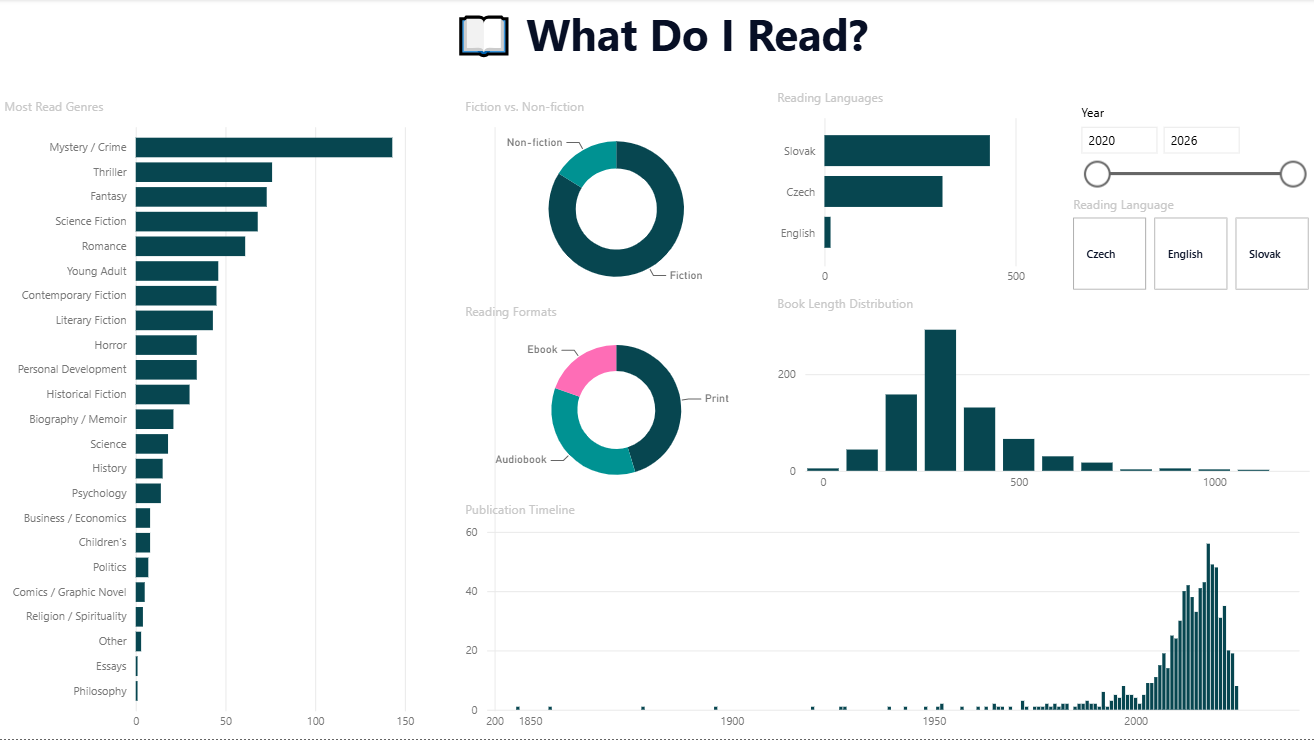

This screenshot's page, from the dashboard's own definition file:
{"tool":"powerbi","page":{"name":"What Do I Read?","canvas":[1280,720],"ordinal":1},"visuals":[{"type":"textbox","box":[8,0,1272,96],"z":0},{"type":"clusteredBarChart","title":"Most Read Genres","fields":{"Category":["FactBooks.Genre"],"Y":["FactBooks.Books Read"]},"box":[0,96,496,624],"z":1000},{"type":"donutChart","title":"Fiction vs. Non-fiction","fields":{"Category":["FactBooks.Fiction Type"],"Y":["FactBooks.Books Read"]},"box":[448,96,304,200],"z":2000},{"type":"donutChart","title":"Reading Formats","fields":{"Category":["FactBooks.Binding"],"Y":["FactBooks.Books Read"]},"box":[448,296,304,192],"z":3000},{"type":"columnChart","title":"Publication Timeline","fields":{"Category":["FactBooks.First Publication Year"],"Y":["FactBooks.Books Read"]},"box":[448,488,832,232],"z":4000},{"type":"clusteredBarChart","title":"Reading Languages","fields":{"Y":["FactBooks.Books Read"],"Category":["FactBooks.Reading Language"]},"box":[752,88,288,200],"z":5000},{"type":"clusteredColumnChart","title":"Book Length Distribution","fields":{"Category":["FactBooks.Number of Pages (bins)"],"Y":["FactBooks.Books Read"]},"box":[752,288,528,200],"z":6000},{"type":"slicer","fields":{"Values":["DimDate.Year"]},"box":[1040,96,240,96],"z":7000},{"type":"advancedSlicerVisual","fields":{"Values":["FactBooks.Reading Language"]},"box":[1040,192,240,96],"z":8000}]}

Visuals, with their boxes in screenshot pixels (x1, y1, x2, y2), scaled from the page's 1280x720 canvas onto the 1314x740 screenshot:
textbox: (8,0,1313,99)
"Most Read Genres" clusteredBarChart: (0,99,509,739)
"Fiction vs. Non-fiction" donutChart: (460,99,772,304)
"Reading Formats" donutChart: (460,304,772,502)
"Publication Timeline" columnChart: (460,502,1313,739)
"Reading Languages" clusteredBarChart: (772,90,1068,296)
"Book Length Distribution" clusteredColumnChart: (772,296,1313,502)
slicer - DimDate.Year: (1068,99,1313,197)
advancedSlicerVisual - FactBooks.Reading Language: (1068,197,1313,296)
